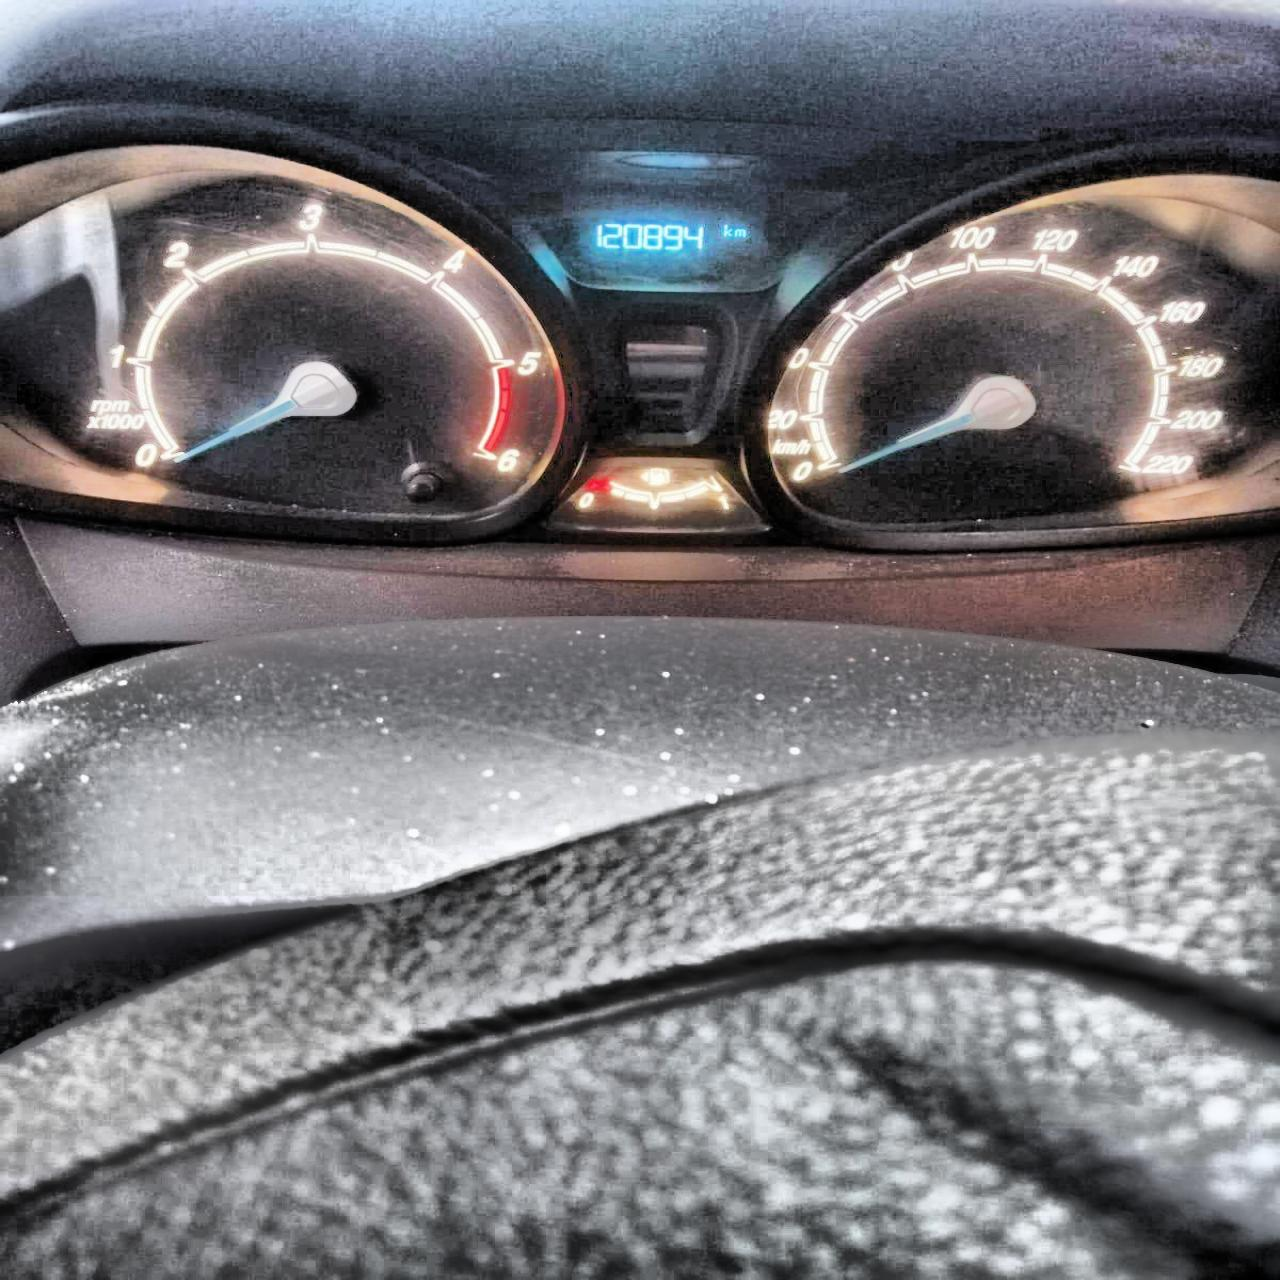0: (621, 223, 642, 251)
1: (595, 222, 601, 248)
2: (601, 222, 620, 248)
4: (682, 225, 706, 250)
8: (644, 223, 662, 250)
9: (662, 223, 682, 250)
X: (721, 222, 731, 238), (734, 226, 747, 238)
odometer: (565, 199, 768, 279)
